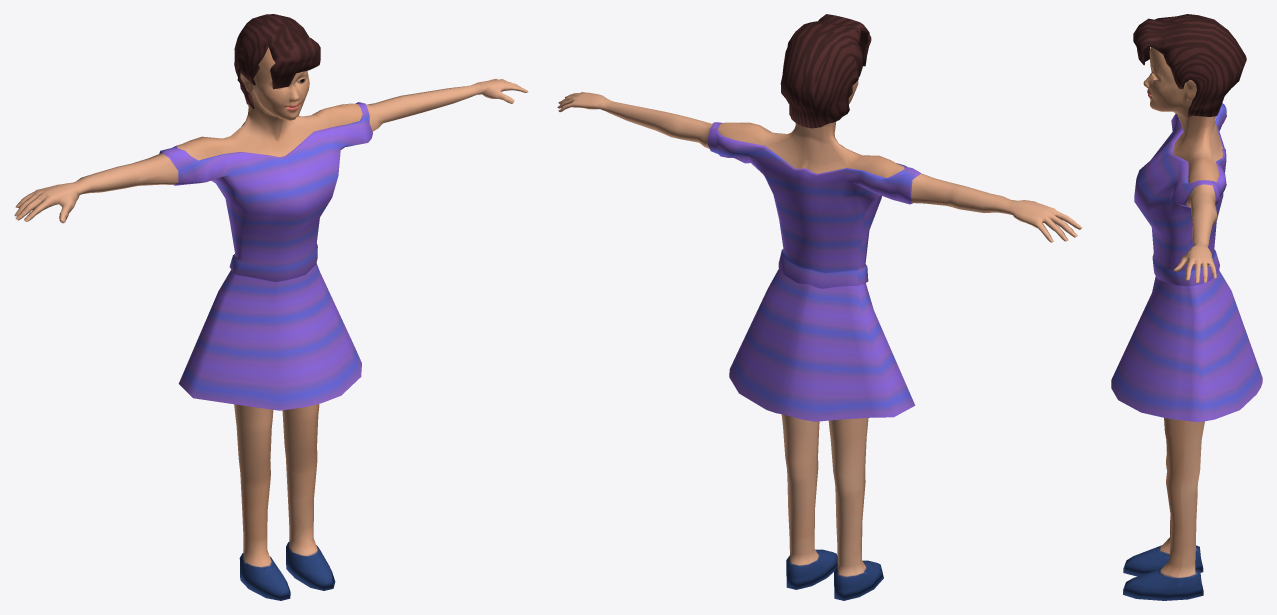
File: Jellia_model.fbx
3 renders of one model, left to right at view 1: azimuth 30°, elevation 25°; view 2: azimuth 150°, elevation 25°; view 3: azimuth 270°, elevation 25°, orthographic. The views are drawn at different scales.
Visible parts, largest first — view 1: Phoebe_Body_Maya, Phoebe_Hair; view 2: Phoebe_Body_Maya, Phoebe_Hair; view 3: Phoebe_Body_Maya, Phoebe_Hair.
Boxes of the visible parts, x1,y1,x2,y2 form: Phoebe_Body_Maya: [14, 47, 528, 600]; Phoebe_Hair: [234, 14, 320, 108]; Phoebe_Body_Maya: [557, 80, 1082, 600]; Phoebe_Hair: [780, 14, 871, 128]; Phoebe_Body_Maya: [1111, 47, 1262, 600]; Phoebe_Hair: [1133, 14, 1246, 117].
Bounding box in the file's own units: 7.9 × 8.17 × 2.
